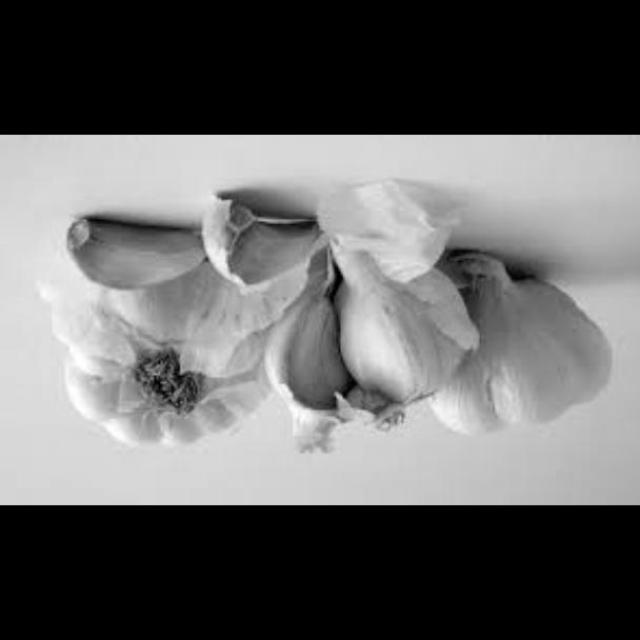garlic: (414, 244, 620, 440), (61, 279, 278, 447), (325, 206, 477, 413), (264, 275, 364, 449), (41, 210, 205, 304), (204, 195, 324, 292)
